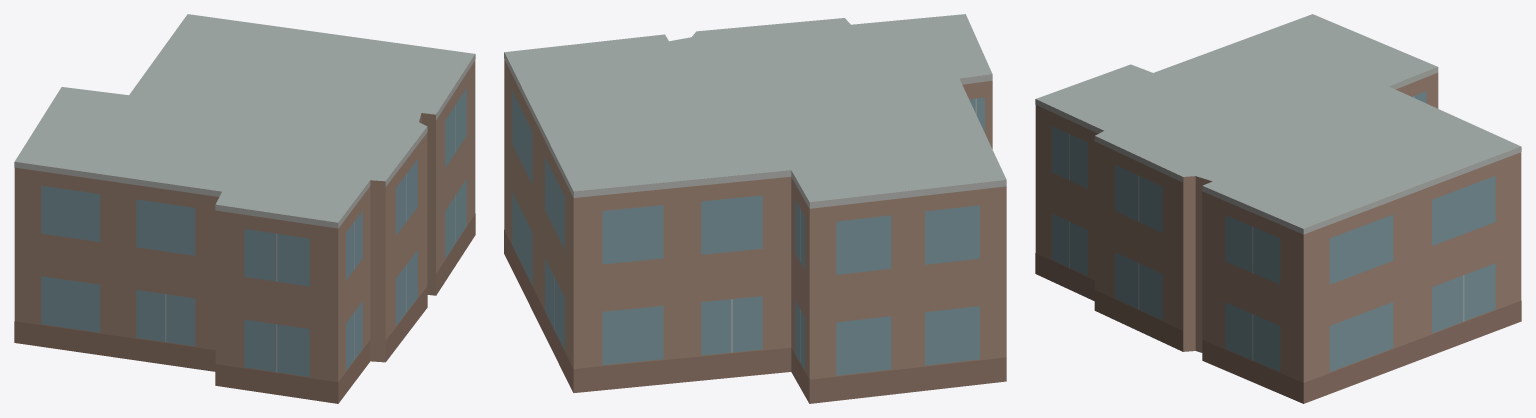
File: survey-upis-32625314.glb
3 views of the same model, side by side, from view 1: azimuth 30°, elevation 25°; view 2: azimuth 150°, elevation 25°; view 3: azimuth 270°, elevation 25° (orthographic). The views are drawn at different scales.
Visible parts, largest first — view 1: survey-upis-32625314.tmp; view 2: survey-upis-32625314.tmp; view 3: survey-upis-32625314.tmp.
Boxes of the visible parts, x1,y1,x2,y2 form: survey-upis-32625314.tmp: (14,14,475,403); survey-upis-32625314.tmp: (504,14,1006,403); survey-upis-32625314.tmp: (1035,14,1521,403).
Size of the model in its own units: 20.04 by 7.6 by 19.14.
